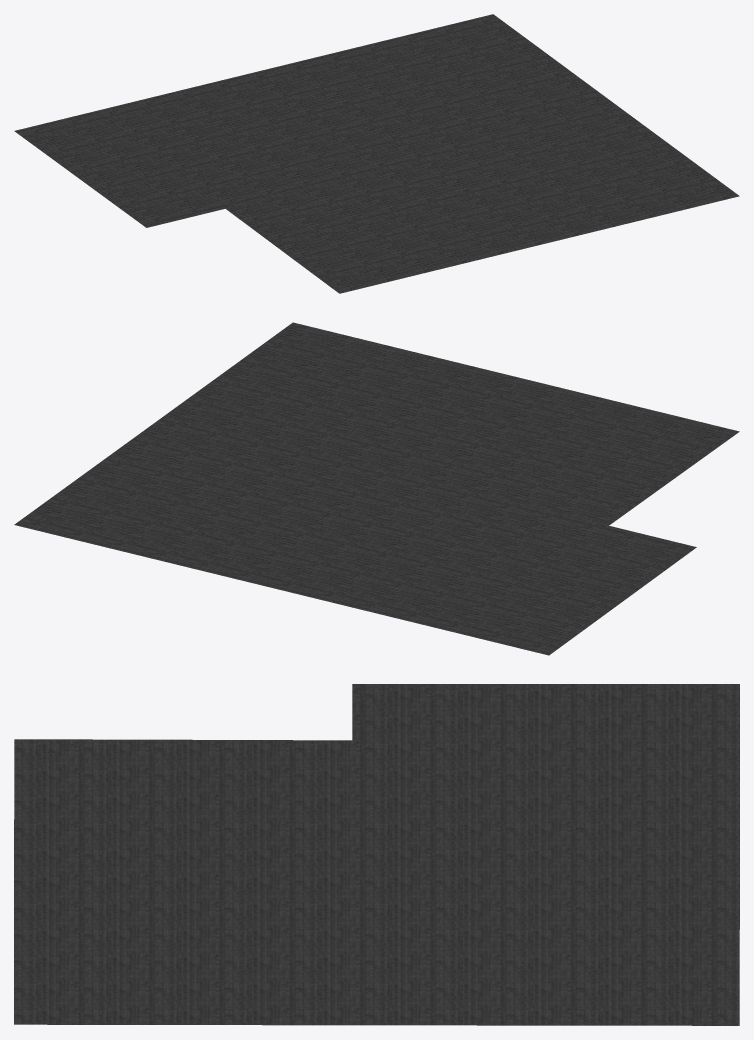
The model's file is floor 2.fbx.
3 views of the same model, one above another, from view 1: azimuth 30°, elevation 25°; view 2: azimuth 150°, elevation 25°; view 3: azimuth 270°, elevation 25° (orthographic). The views are drawn at different scales.
Visible parts, largest first — view 1: ground_Shape; view 2: ground_Shape; view 3: ground_Shape.
Part boxes in pixels (<box>): ground_Shape: <box>14,14,739,293</box>; ground_Shape: <box>14,322,739,655</box>; ground_Shape: <box>14,684,739,1025</box>.
Size of the model in its own units: 1677 by 0.000992 by 1505.
1 material, 1 textured.
